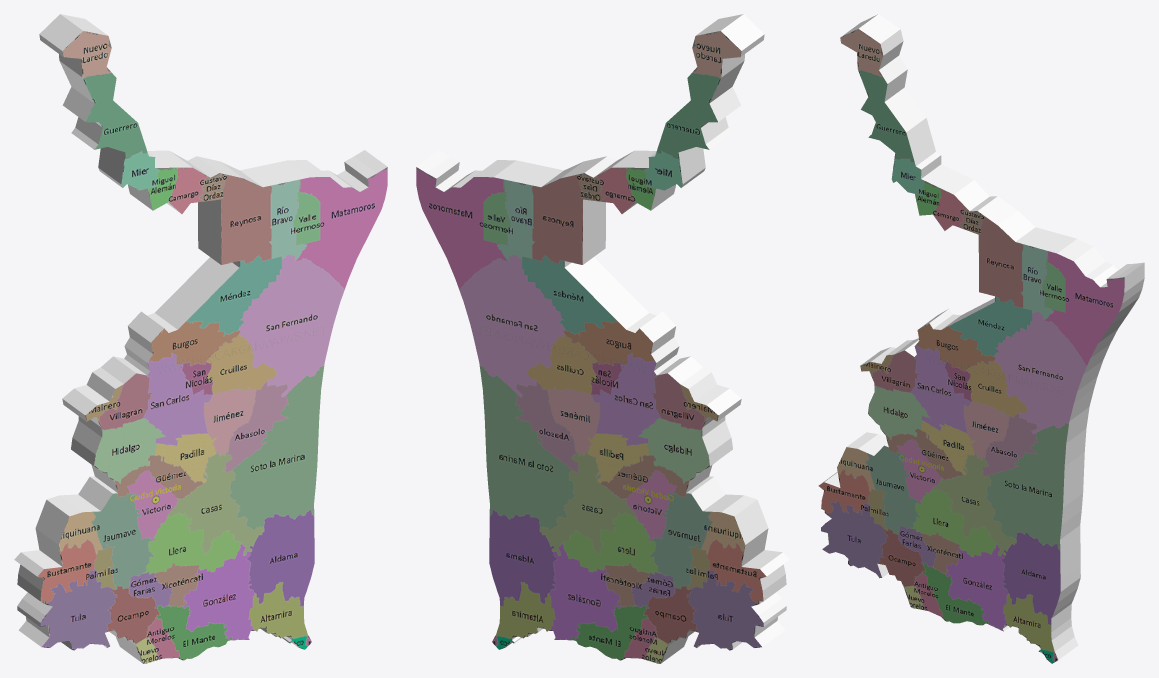
The model's file is tamaulipas.glb.
3 views of the same model, side by side, from view 1: azimuth 30°, elevation 25°; view 2: azimuth 150°, elevation 25°; view 3: azimuth 330°, elevation 25° (orthographic). The views are drawn at different scales.
Parts seen in each view (by area): view 1: Plano; view 2: Plano; view 3: Plano.
Boxes of the visible parts, x1=… form: Plano: x1=14, y1=14, x2=387, y2=663; Plano: x1=416, y1=14, x2=789, y2=663; Plano: x1=818, y1=14, x2=1144, y2=663.
Bounding box in the file's own units: 0.4729 × 0.8678 × 0.054.
1 material, 1 textured.
